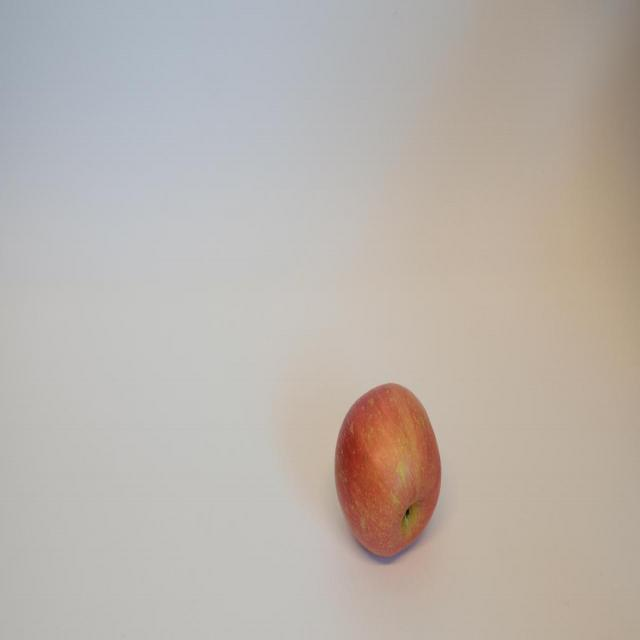apple: (337, 372, 441, 566)
